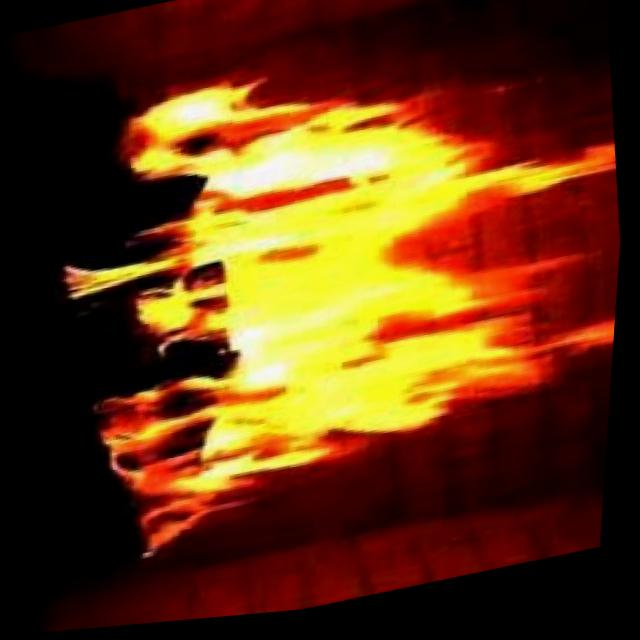helmet: (30, 5, 637, 580)
